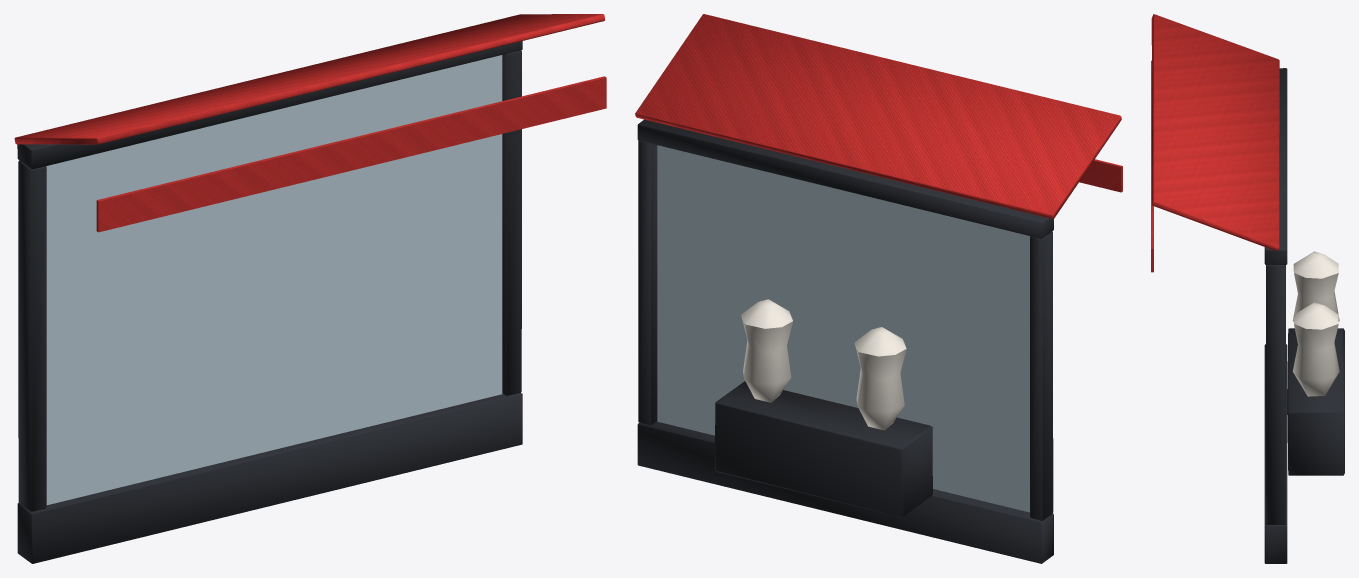
Rendered from fachada-vitrine-28-leve.glb.
3 renders of one model, left to right at view 1: azimuth 30°, elevation 25°; view 2: azimuth 150°, elevation 25°; view 3: azimuth 270°, elevation 25°, orthographic. The views are drawn at different scales.
Parts seen in each view (by area): view 1: vidro, soleira, sanefa, toldo, coluna, coluna.001, verga; view 2: vidro, toldo, expositor, soleira, verga, coluna, coluna.001, busto.001, busto, sanefa; view 3: toldo, expositor, coluna.001, busto.001, busto, verga, soleira, sanefa.
Boxes of the visible parts, x1,y1,x2,y2 form: vidro: (46, 55, 502, 505); soleira: (17, 392, 522, 563); sanefa: (96, 76, 606, 232); toldo: (14, 14, 604, 144); coluna: (18, 160, 46, 511); coluna.001: (502, 50, 521, 395); verga: (17, 41, 522, 169); vidro: (657, 145, 1029, 512); toldo: (635, 14, 1121, 218); expositor: (715, 381, 932, 517); soleira: (637, 421, 1053, 563); verga: (637, 119, 1053, 238); coluna: (1030, 231, 1053, 520); coluna.001: (638, 140, 657, 425); busto.001: (741, 299, 792, 402); busto: (854, 327, 906, 430); sanefa: (1079, 159, 1122, 192); toldo: (1151, 14, 1279, 251); expositor: (1287, 328, 1344, 475); coluna.001: (1266, 265, 1285, 524); busto.001: (1292, 302, 1339, 396); busto: (1292, 251, 1339, 321); verga: (1264, 68, 1287, 264); soleira: (1264, 344, 1287, 563); sanefa: (1151, 60, 1153, 272).
Size of the model in its own units: 3.1 by 2.81 by 1.35.
Materials: 4 (1 with a texture image).
